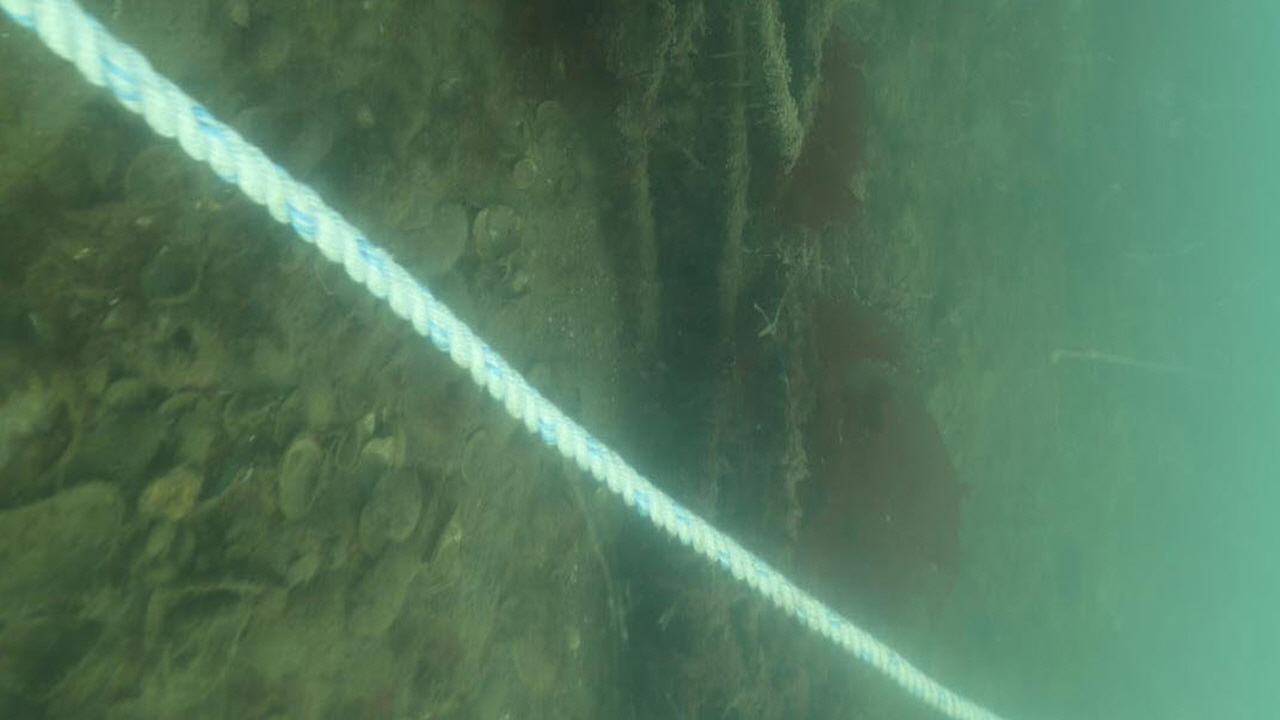rope: (0, 0, 1004, 720)
